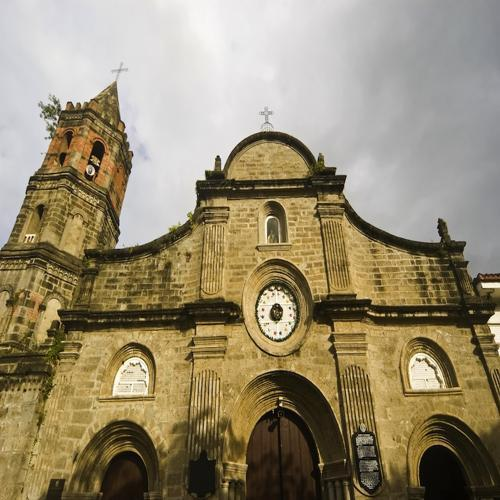Barasoain Church: (2, 53, 500, 500)
